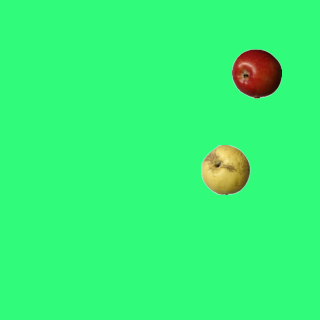Apple Braeburn: (231, 48, 281, 98)
Apple Golden 1: (200, 144, 250, 194)
